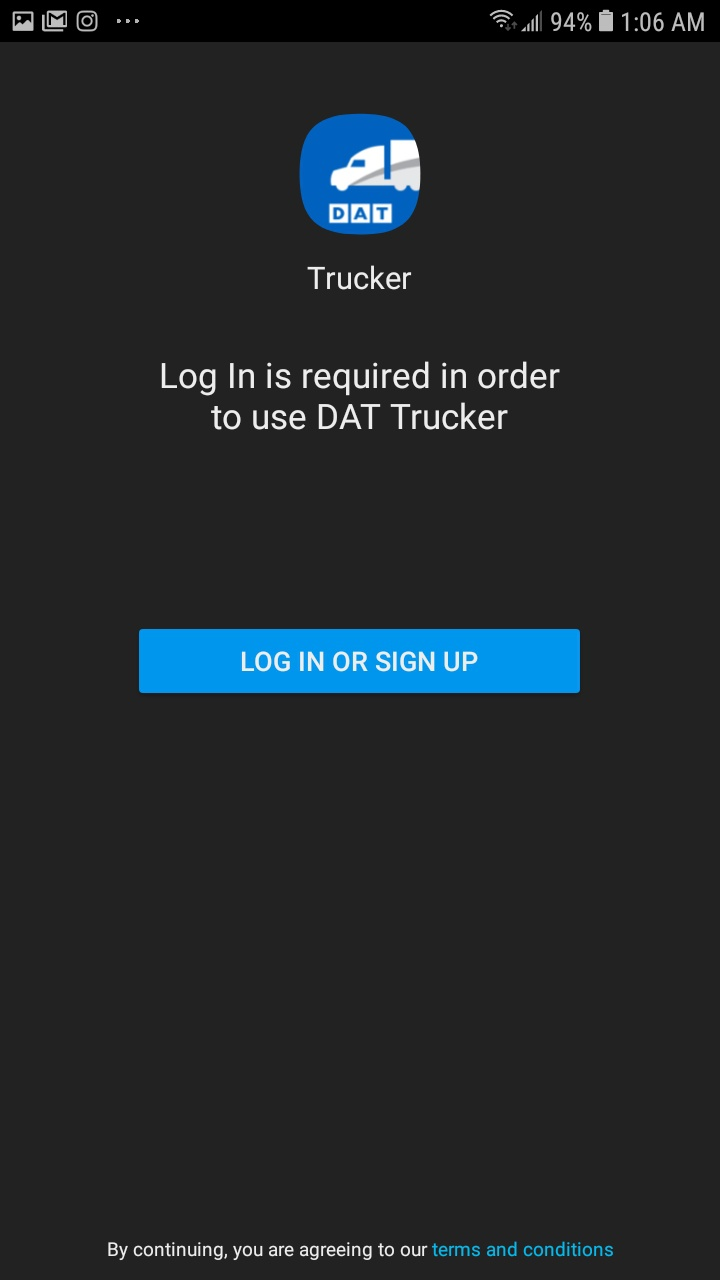Image: (300, 114, 422, 236)
Text: (161, 361, 561, 431), (108, 1240, 614, 1261), (306, 265, 412, 291)
TextButton: (139, 628, 581, 694)
UpperTaskBar: (1, 1, 720, 43)
